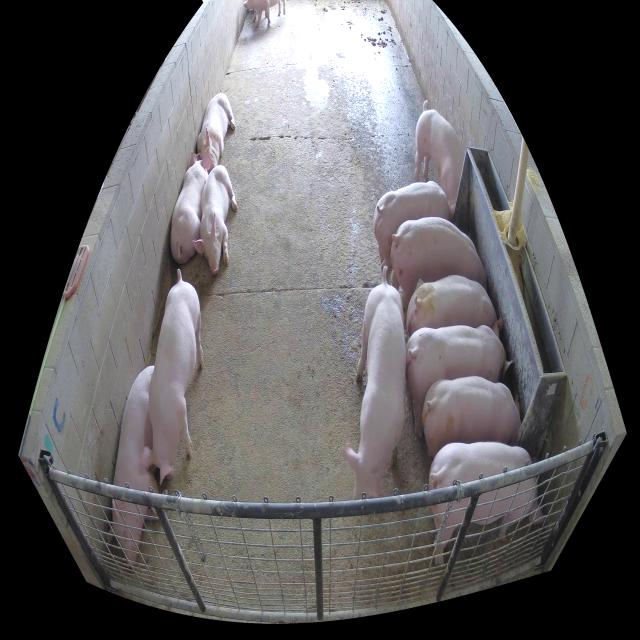pig: (341, 268, 407, 500), (430, 441, 544, 569), (138, 271, 205, 484), (407, 325, 513, 440), (108, 366, 166, 568), (390, 216, 487, 332), (421, 376, 520, 464), (375, 180, 454, 284), (407, 275, 502, 342), (413, 100, 464, 216), (193, 165, 237, 277), (171, 148, 210, 264), (196, 93, 236, 170)
